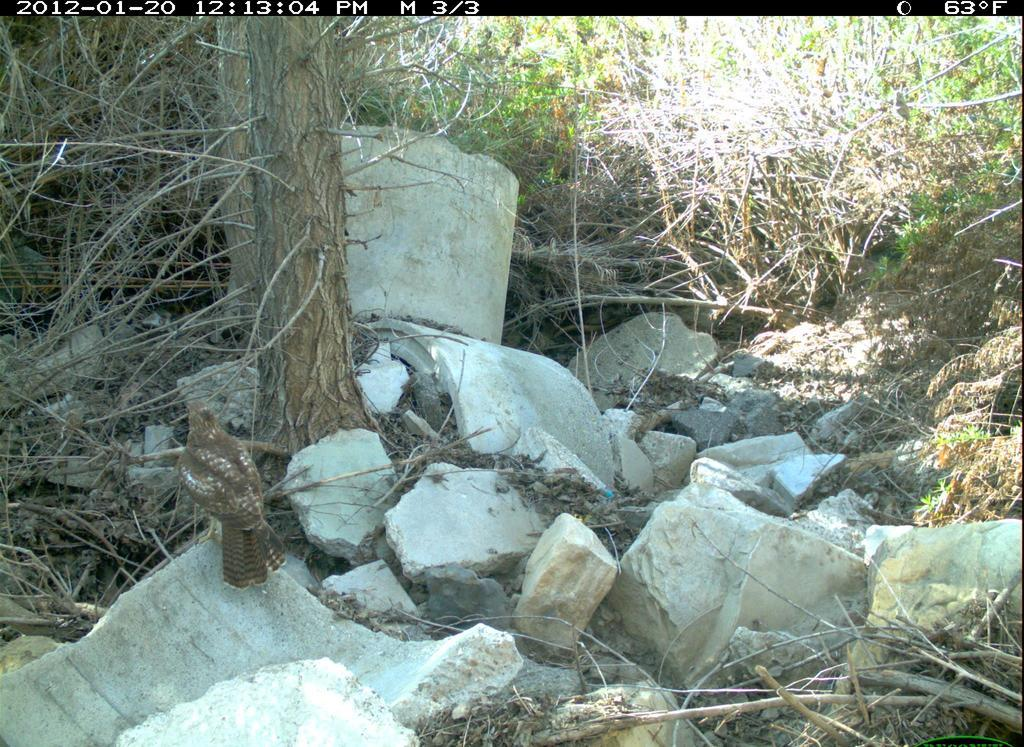bird: (172, 387, 317, 598)
